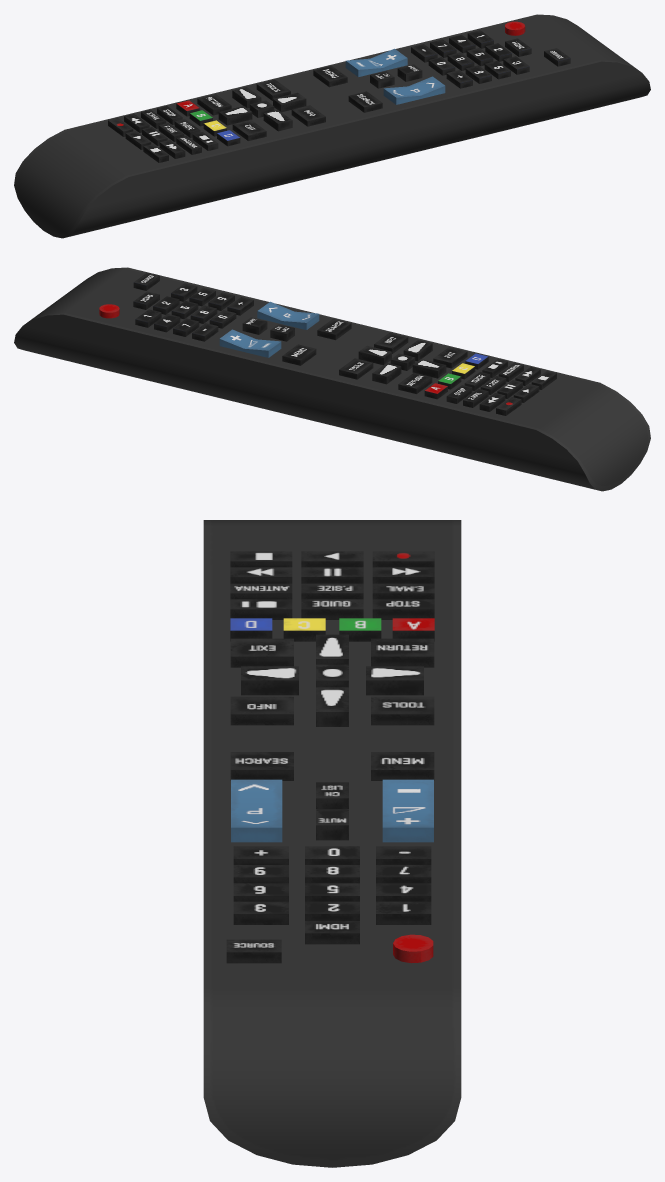
The model's file is SM_Remote.fbx.
The picture shows the model from 3 angles, top to bottom: view 1: azimuth 30°, elevation 25°; view 2: azimuth 150°, elevation 25°; view 3: azimuth 270°, elevation 25°; orthographic projection. The views are drawn at different scales.
Visible parts, largest first — view 1: SM_Remote_LOD0; view 2: SM_Remote_LOD0; view 3: SM_Remote_LOD0.
Part boxes in pixels (bbox=[...]): SM_Remote_LOD0: bbox=[14, 14, 650, 238]; SM_Remote_LOD0: bbox=[14, 267, 650, 491]; SM_Remote_LOD0: bbox=[203, 520, 461, 1167].
Bounding box in the file's own units: 31.86 × 6.15 × 3.81.
1 material, 1 textured.
